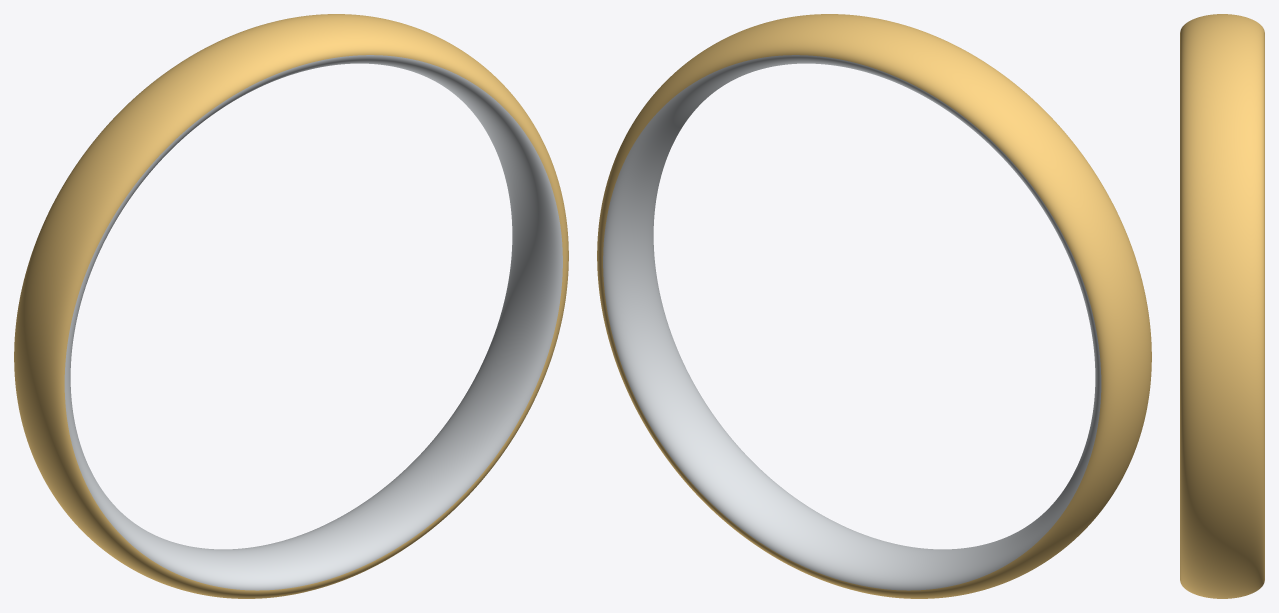
3 views of the same model, side by side, from view 1: azimuth 30°, elevation 25°; view 2: azimuth 150°, elevation 25°; view 3: azimuth 270°, elevation 25° (orthographic). The views are drawn at different scales.
Parts seen in each view (by area): view 1: 03LM 3mm; view 2: 03LM 3mm; view 3: 03LM 3mm.
Part boxes in pixels (bbox=[...]): 03LM 3mm: bbox=[14, 14, 568, 598]; 03LM 3mm: bbox=[597, 14, 1151, 598]; 03LM 3mm: bbox=[1180, 14, 1264, 598].
Bounding box in the file's own units: 0.0207 × 0.0207 × 0.003.
